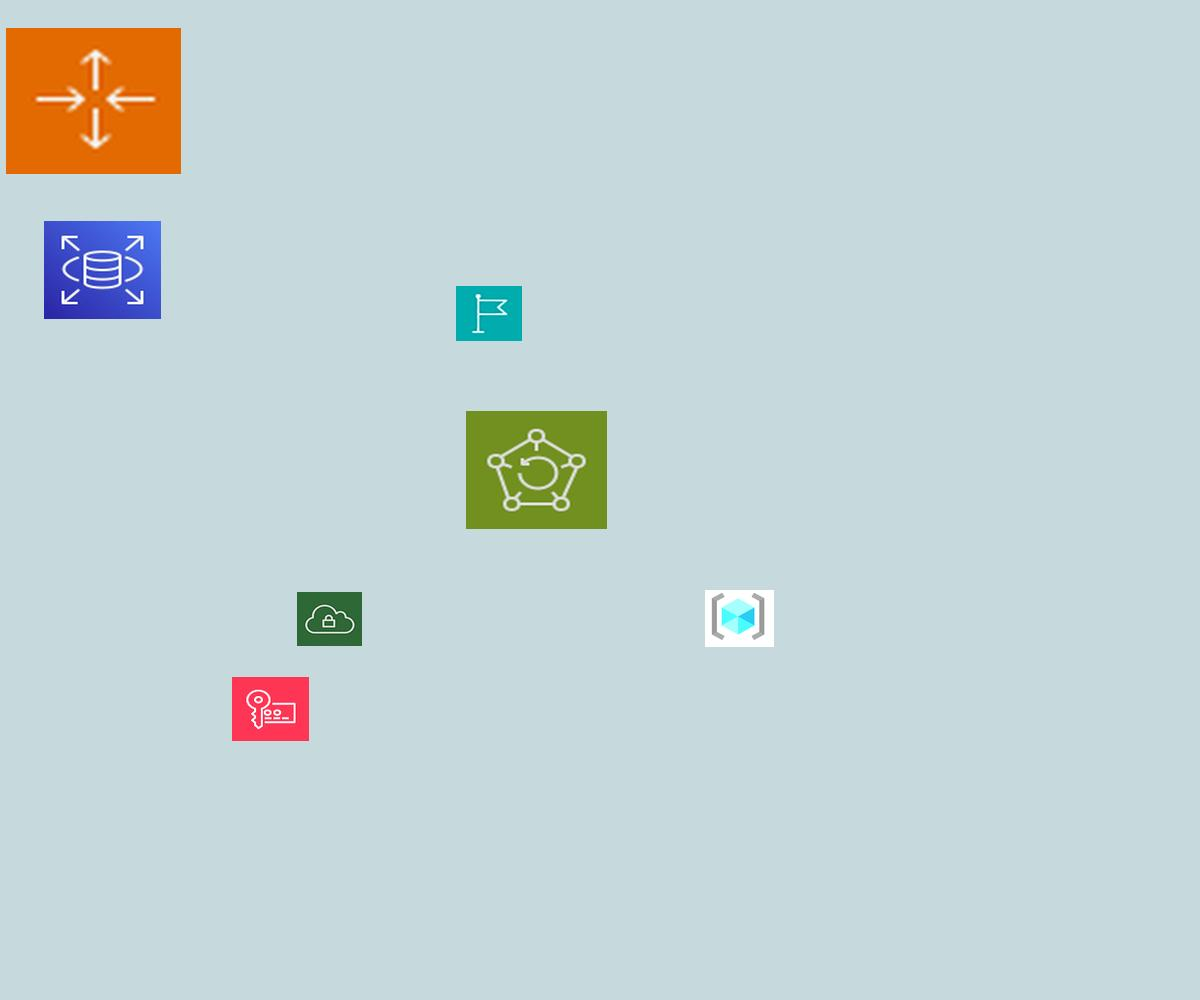AWS-Backup: (466, 411, 607, 529)
AWS-Key-Management-Service: (232, 677, 309, 741)
AWS-Private_vpc: (297, 592, 362, 646)
AWS-RDS: (44, 221, 161, 319)
AWS-Region: (456, 286, 522, 341)
AWS-Scaling-group: (6, 28, 181, 174)
Azure_resource_group: (705, 590, 774, 647)
